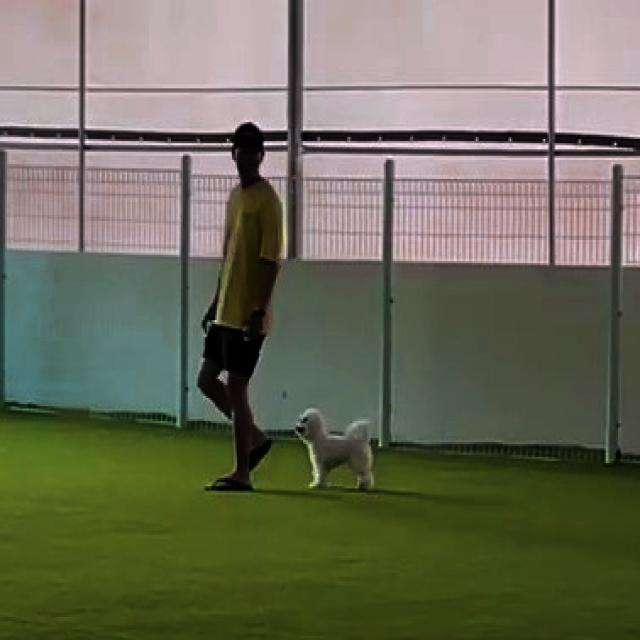Unleashed_Dog: (239, 407, 376, 494)
